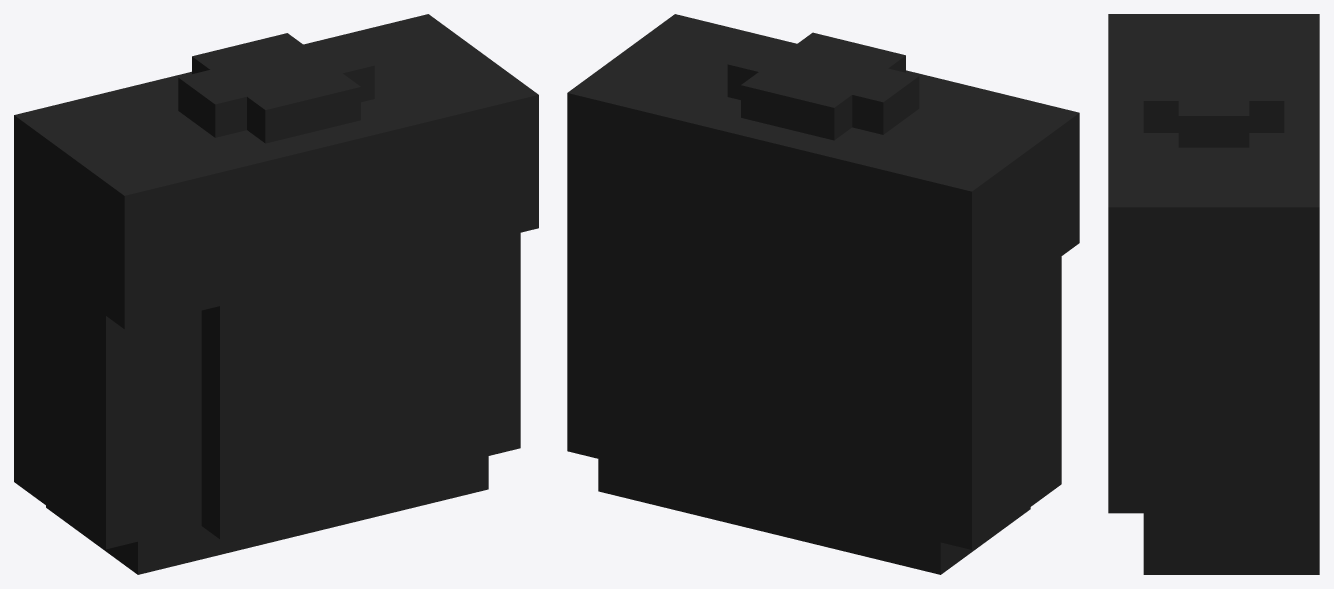
The model's file is Robot_vox-1-15.obj.
3 renders of one model, left to right at view 1: azimuth 30°, elevation 25°; view 2: azimuth 150°, elevation 25°; view 3: azimuth 270°, elevation 25°, orthographic. The views are drawn at different scales.
Size of the model in its own units: 1.3 by 1.3 by 0.6.
Materials: 1 (1 with a texture image).
